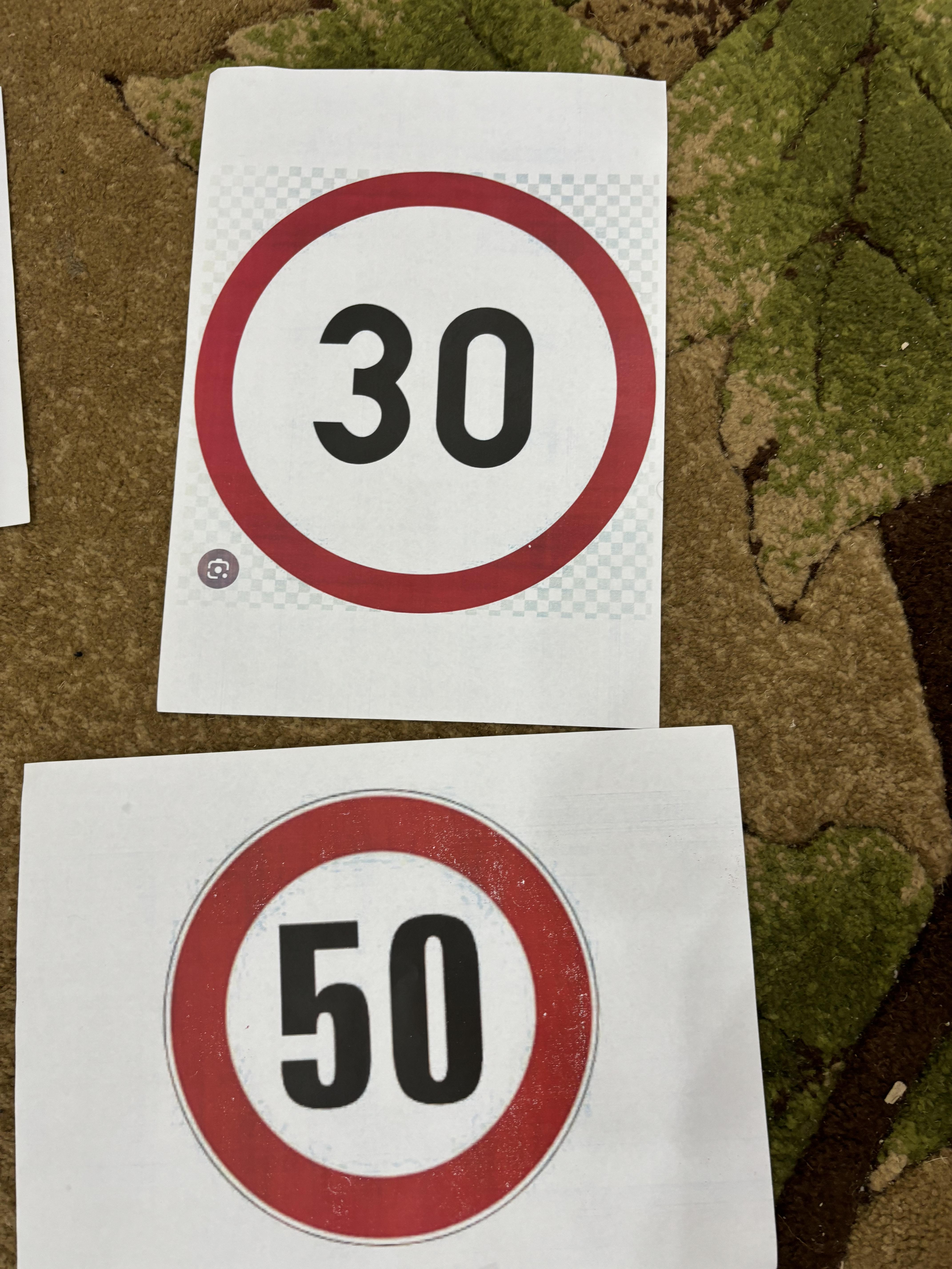30-speed: (194, 172, 660, 618)
50-Speed: (162, 787, 605, 1247)
